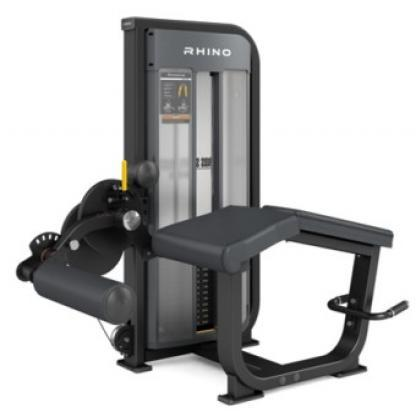reg curl machine: (13, 12, 409, 406)
